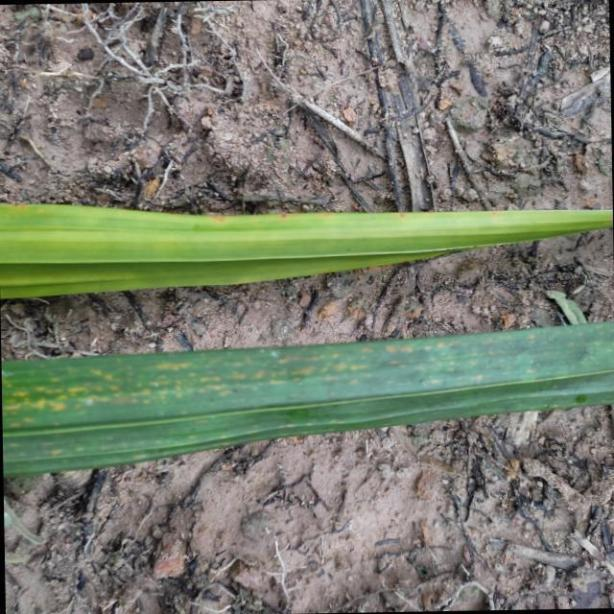nitrogen: (0, 321, 614, 483), (0, 203, 614, 301)
